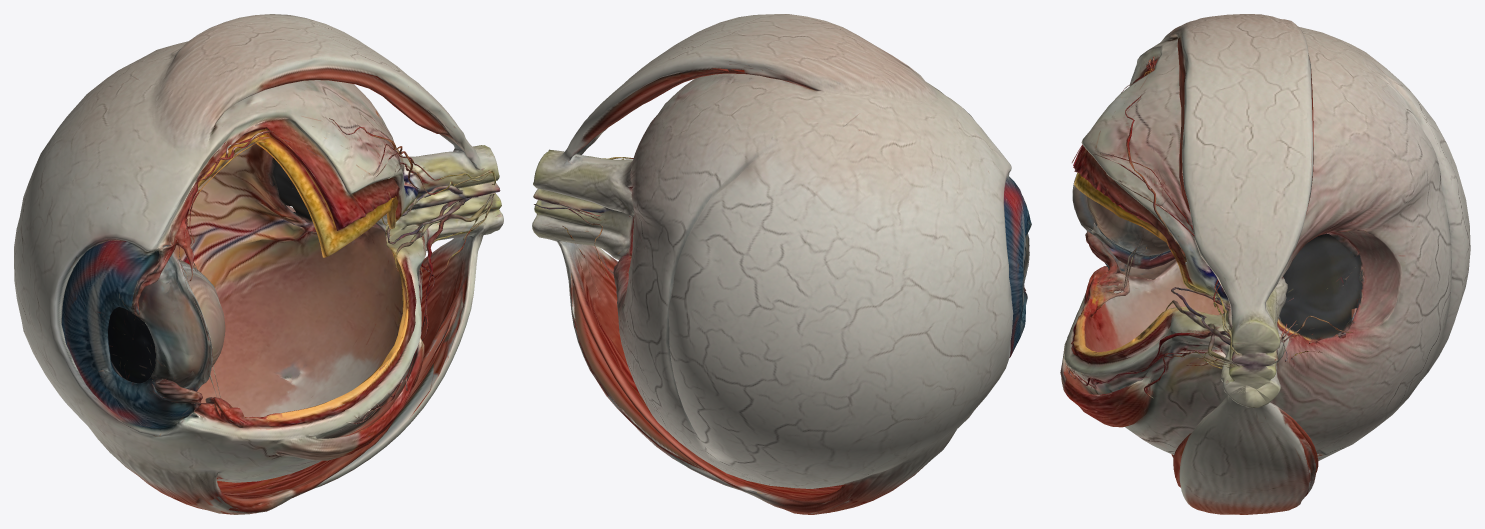
The model's file is Glaucoma eye.glb.
3 renders of one model, left to right at view 1: azimuth 30°, elevation 25°; view 2: azimuth 150°, elevation 25°; view 3: azimuth 270°, elevation 25°, orthographic.
Bounding box in the file's own units: 0.9531 × 0.9282 × 0.7417.
1 material, 1 textured.
